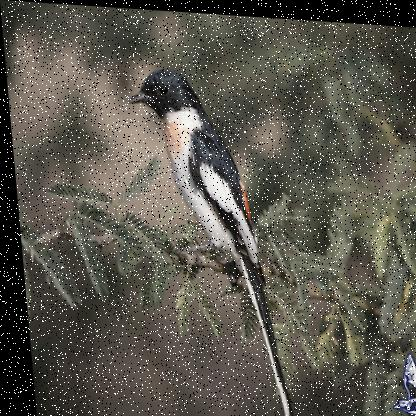Burung: (125, 64, 286, 415)
